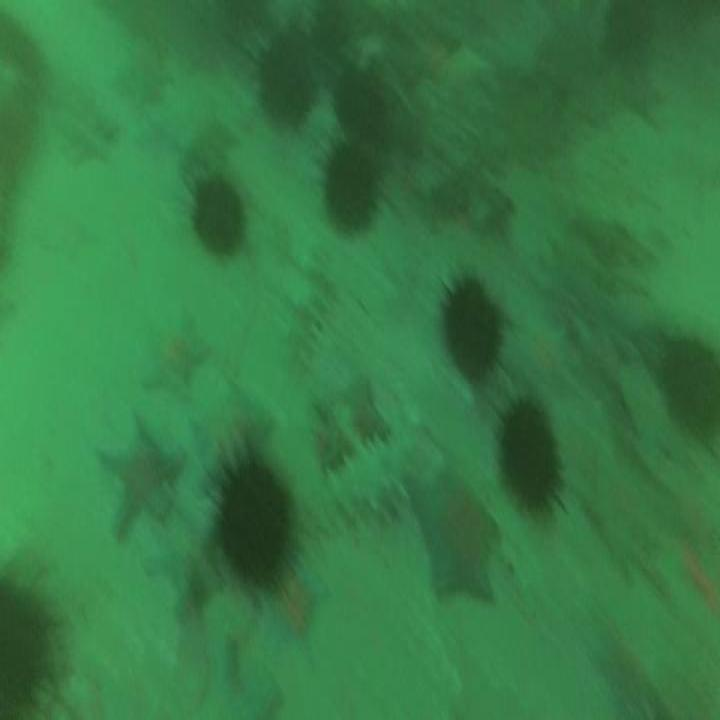echinus: (217, 466, 288, 583), (2, 576, 55, 720), (662, 334, 720, 446), (501, 402, 560, 510), (442, 277, 501, 377), (257, 30, 314, 128), (337, 66, 389, 148), (192, 176, 244, 258), (328, 149, 375, 235)
holothurian: (296, 443, 410, 537), (288, 249, 333, 373)
starfish: (411, 459, 498, 602), (95, 420, 180, 530), (145, 311, 204, 395)
